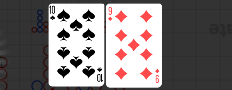10C: (96, 67, 104, 84)
9D: (154, 68, 161, 85)
